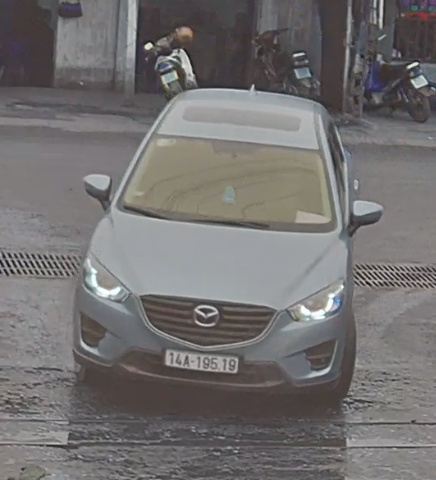vehicle plate: (161, 342, 241, 375)
